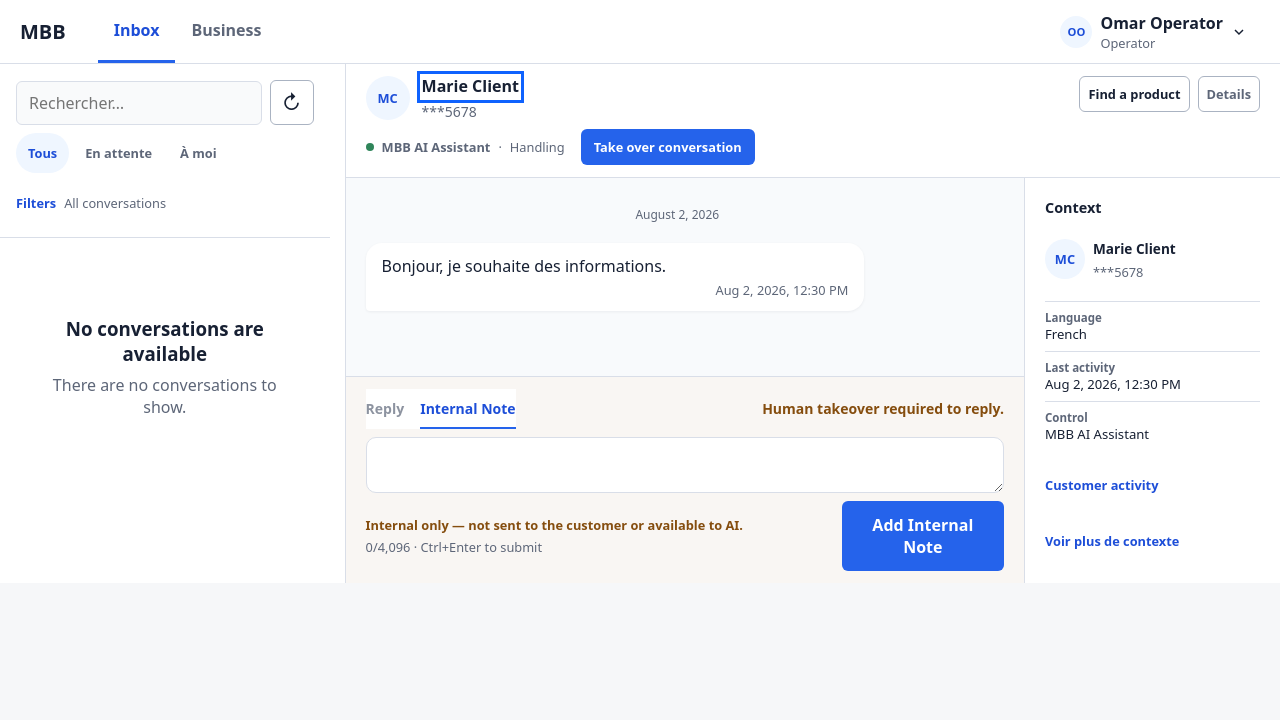
Test case: read-only conversation workspace › shows customer activity empty states
The image size is (1280, 720).
Click the heading "Customer activity" at x=1102, y=485, box [1045,476,1158,494]
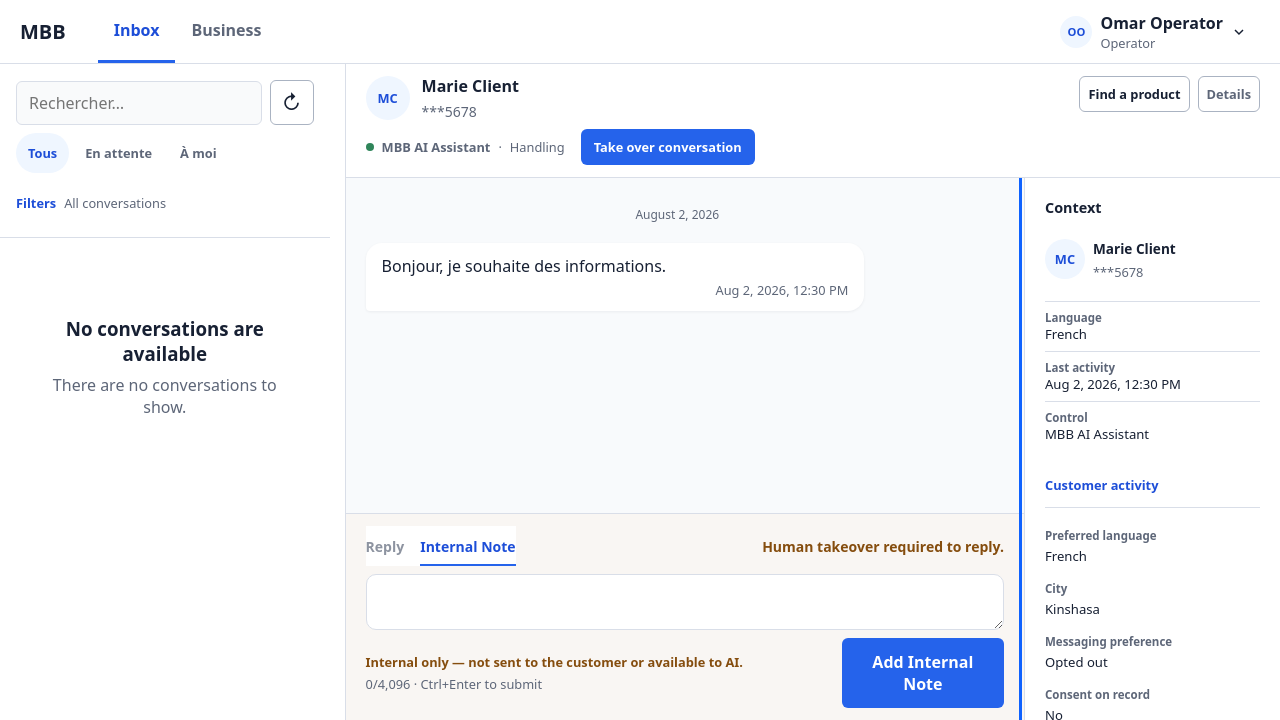
Expected: the text "Opted out" is shown, [1045,653,1108,671]
